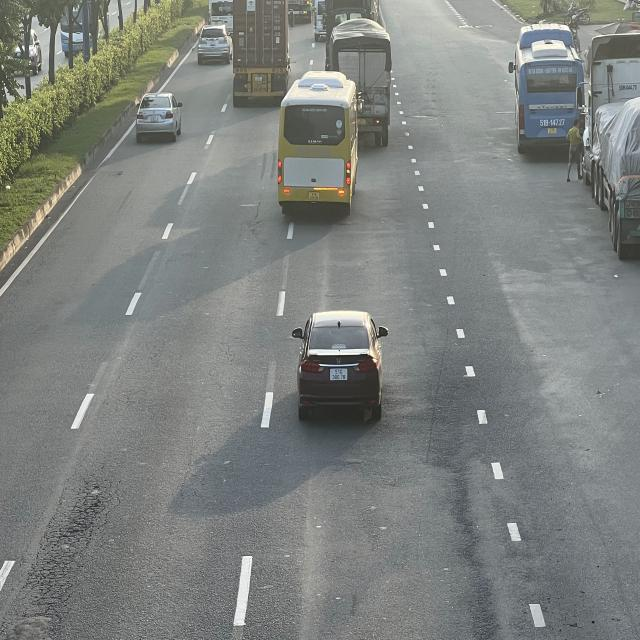car: (295, 310, 389, 422), (134, 90, 182, 138), (197, 24, 233, 65)
coach: (278, 72, 360, 215), (514, 24, 586, 158)
container: (576, 26, 638, 267), (234, 2, 292, 109)
truck: (326, 20, 392, 147)
